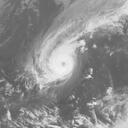cyclone: (27, 32, 78, 87)
